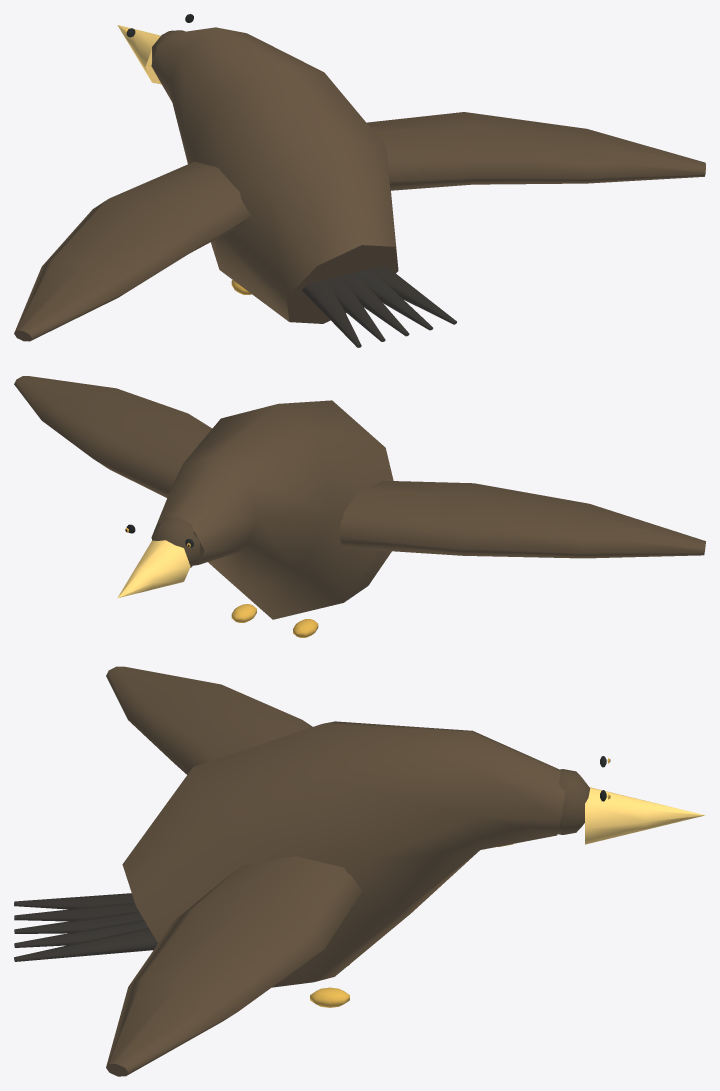
Rendered from eagle_mobile.glb.
3 views of the same model, one above another, from view 1: azimuth 30°, elevation 25°; view 2: azimuth 150°, elevation 25°; view 3: azimuth 270°, elevation 25° (orthographic). The views are drawn at different scales.
Visible parts, largest first — view 1: EagleOrganicBody, Wing, Wing2, TailFeather, _MeshInstance3D_58, _MeshInstance3D_57, _MeshInstance3D_56, _MeshInstance3D_55, HookedBeak; view 2: EagleOrganicBody, Wing, Wing2, HookedBeak, Head; view 3: EagleOrganicBody, Wing2, Wing, HookedBeak, _MeshInstance3D_58, Head, _MeshInstance3D_57, _MeshInstance3D_56, _MeshInstance3D_55, TailFeather, _MeshInstance3D_59.
Part boxes in pixels (<box>): EagleOrganicBody: <box>151,27,398,323</box>; Wing: <box>14,161,251,341</box>; Wing2: <box>367,112,705,190</box>; TailFeather: <box>301,280,361,347</box>; _MeshInstance3D_58: <box>369,266,456,324</box>; _MeshInstance3D_57: <box>354,270,433,330</box>; _MeshInstance3D_56: <box>340,273,409,336</box>; _MeshInstance3D_55: <box>325,277,385,341</box>; HookedBeak: <box>117,25,161,84</box>; EagleOrganicBody: <box>151,400,393,619</box>; Wing: <box>339,480,705,558</box>; Wing2: <box>14,376,212,497</box>; HookedBeak: <box>117,540,190,598</box>; Head: <box>152,517,200,567</box>; EagleOrganicBody: <box>122,721,565,987</box>; Wing2: <box>106,856,362,1076</box>; Wing: <box>106,666,312,774</box>; HookedBeak: <box>585,787,704,844</box>; _MeshInstance3D_58: <box>14,928,157,961</box>; Head: <box>557,769,590,834</box>; _MeshInstance3D_57: <box>14,920,148,947</box>; _MeshInstance3D_56: <box>14,911,143,933</box>; _MeshInstance3D_55: <box>14,902,138,921</box>; TailFeather: <box>14,893,134,909</box>; _MeshInstance3D_59: <box>310,987,349,1007</box>.
Size of the model in its own units: 5.39 by 1.68 by 3.92.
